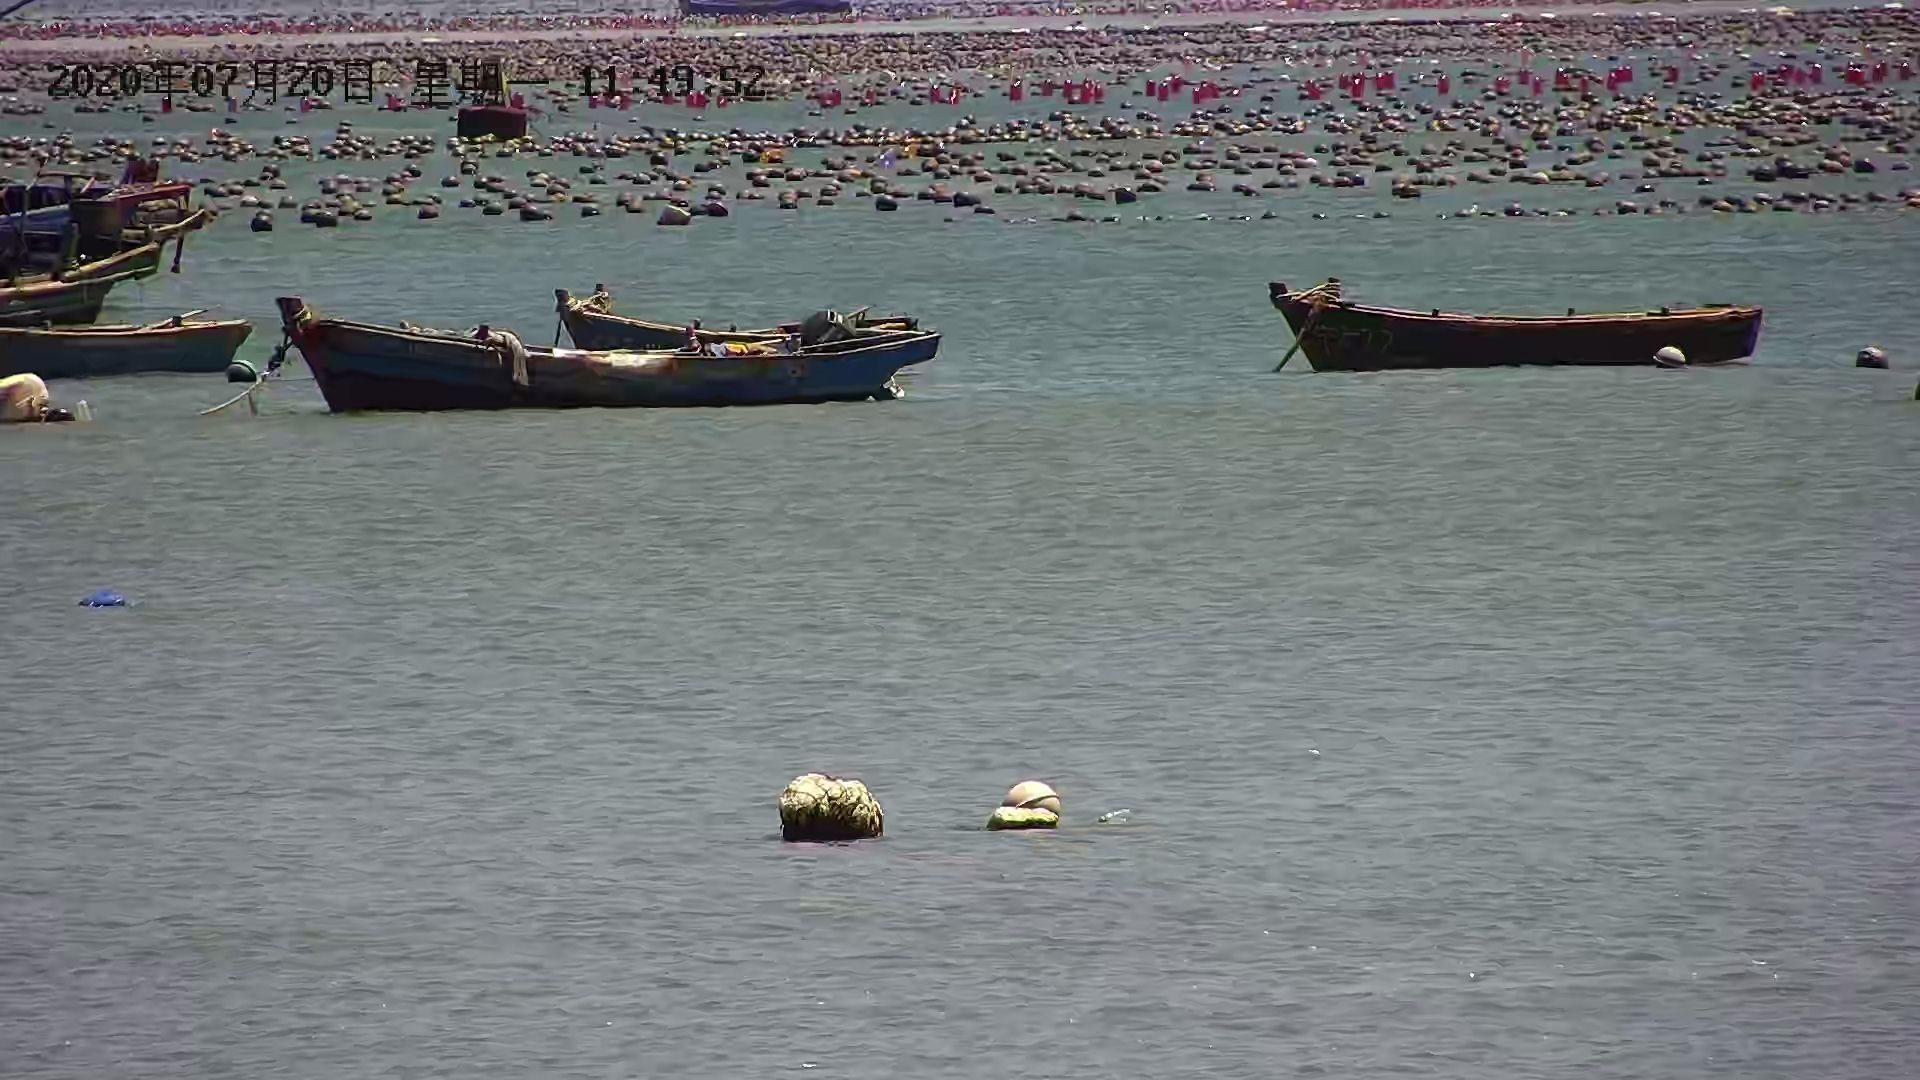boat: (261, 291, 934, 415), (1255, 268, 1772, 371), (1, 307, 248, 382)
rubbish: (771, 758, 901, 853), (978, 774, 1077, 839), (1, 375, 84, 430)
